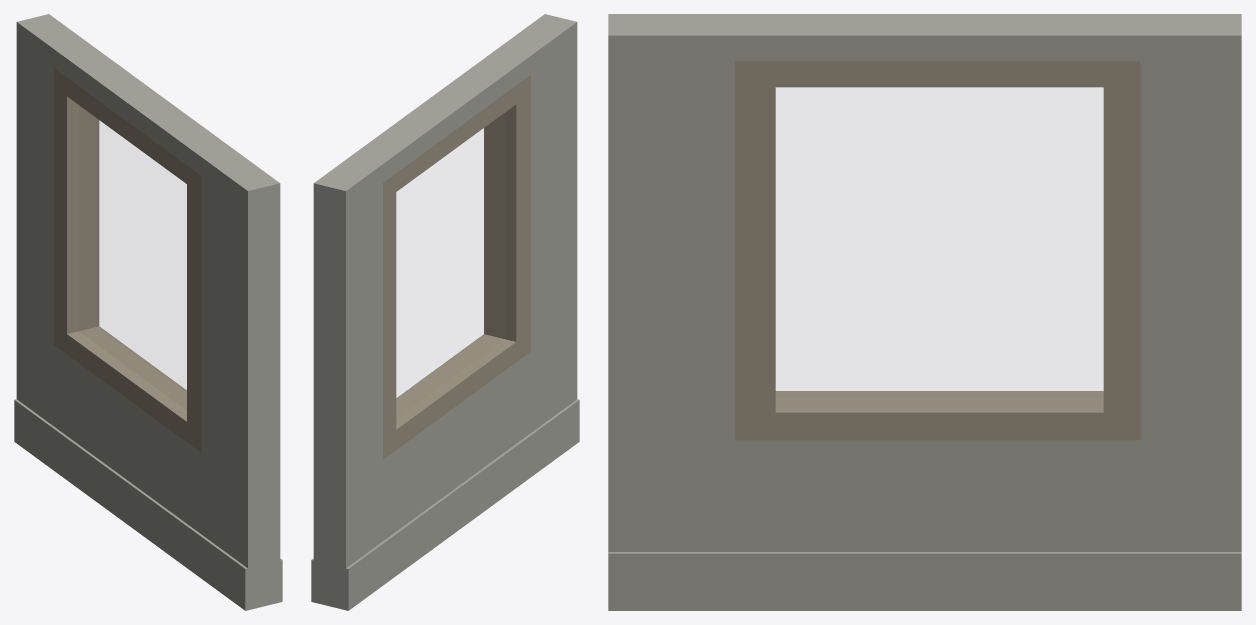
Rendered from window.fbx.
3 renders of one model, left to right at view 1: azimuth 30°, elevation 25°; view 2: azimuth 150°, elevation 25°; view 3: azimuth 270°, elevation 25°, orthographic. The views are drawn at different scales.
Parts seen in each view (by area): view 1: window_wall; view 2: window_wall; view 3: window_wall.
Boxes of the visible parts, box(x1,y1,x2,y2) form: window_wall: box(14, 14, 282, 610); window_wall: box(311, 14, 579, 610); window_wall: box(608, 14, 1241, 610).
Size of the model in its own units: 0.2822 by 3.03 by 3.03.
